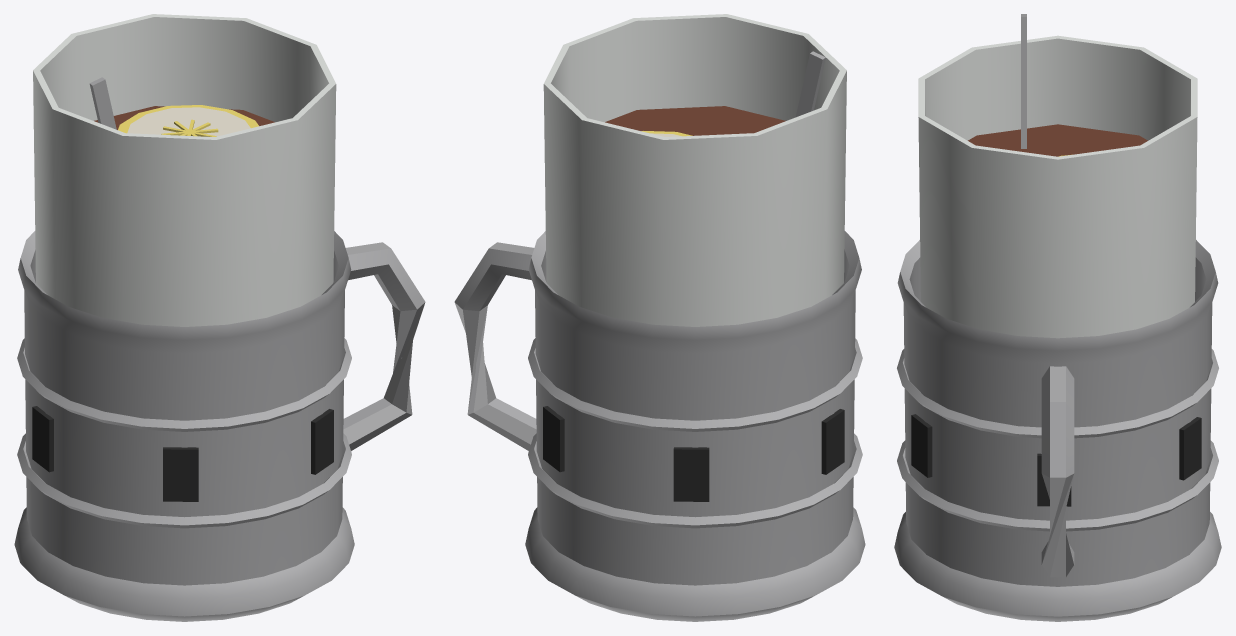
The model's file is cook_tea.glb.
The picture shows the model from 3 angles, left to right: view 1: azimuth 30°, elevation 25°; view 2: azimuth 150°, elevation 25°; view 3: azimuth 270°, elevation 25°; orthographic projection. The views are drawn at different scales.
Parts seen in each view (by area): view 1: body; view 2: body; view 3: body.
Part boxes in pixels (x1,y1,x2,y2): body: (14, 14, 425, 621); body: (454, 14, 865, 621); body: (894, 14, 1221, 621).
Bounding box in the file's own units: 0.05 × 0.0644 × 0.0384.
